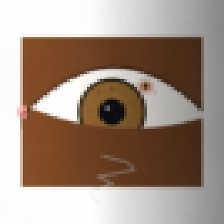foreign_body_visible: (80, 123, 98, 137)
